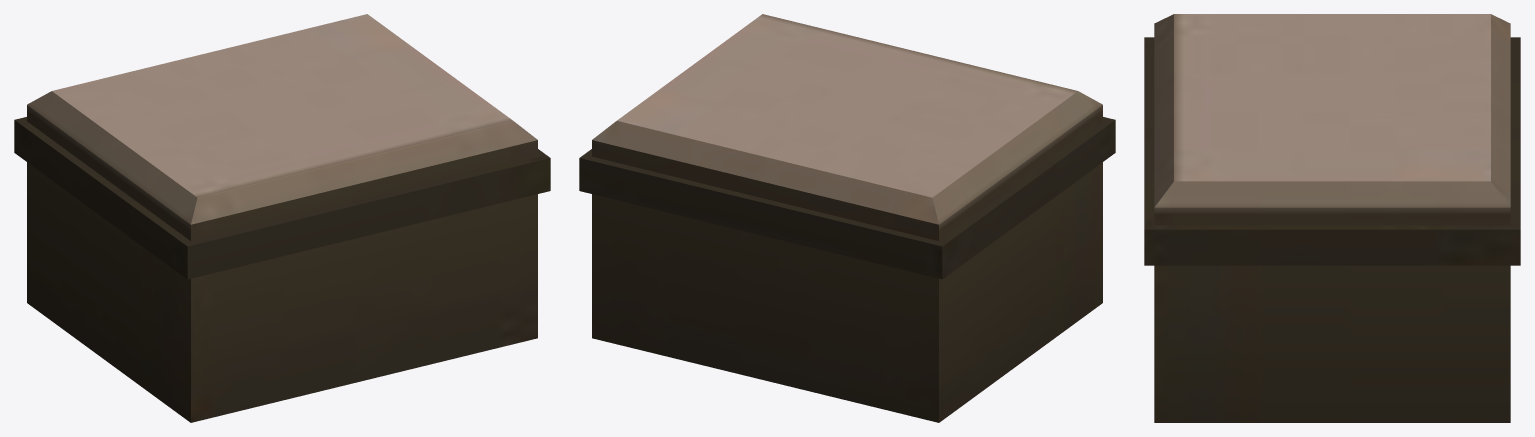
Rendered from iron-chest.glb.
3 views of the same model, side by side, from view 1: azimuth 30°, elevation 25°; view 2: azimuth 150°, elevation 25°; view 3: azimuth 270°, elevation 25° (orthographic). The views are drawn at different scales.
Parts seen in each view (by area): view 1: iron-chest; view 2: iron-chest; view 3: iron-chest.
Boxes of the visible parts, left/top/right/bottom form: iron-chest: left=14, top=14, right=550, bottom=422; iron-chest: left=579, top=14, right=1115, bottom=422; iron-chest: left=1144, top=14, right=1520, bottom=422.
Size of the model in its own units: 0.23 by 0.13 by 0.19.
1 material, 1 textured.
